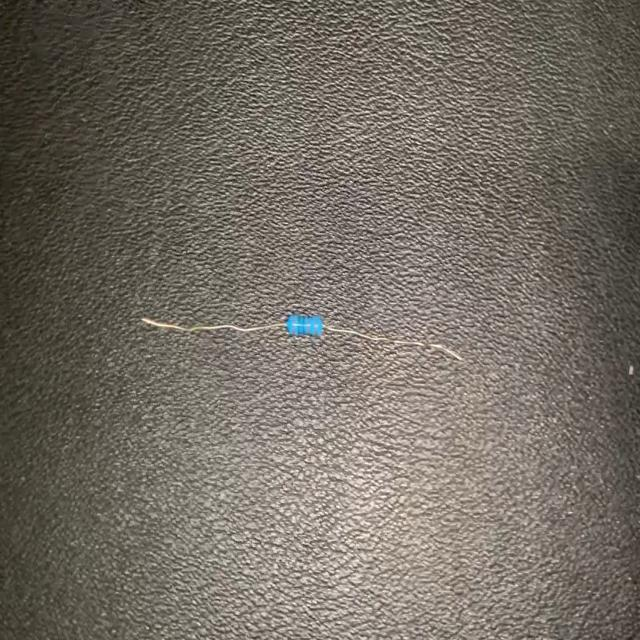resistor: (135, 295, 465, 376)
